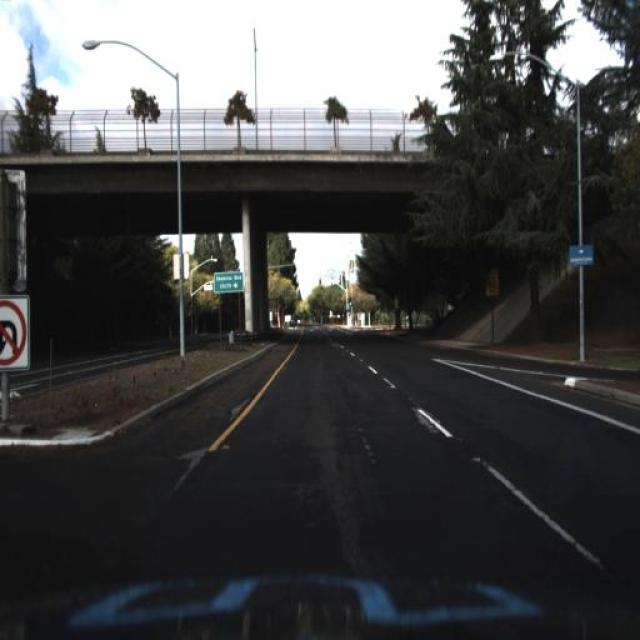trafficLight-GreenLeft: (349, 297, 352, 307), (319, 278, 322, 288)
